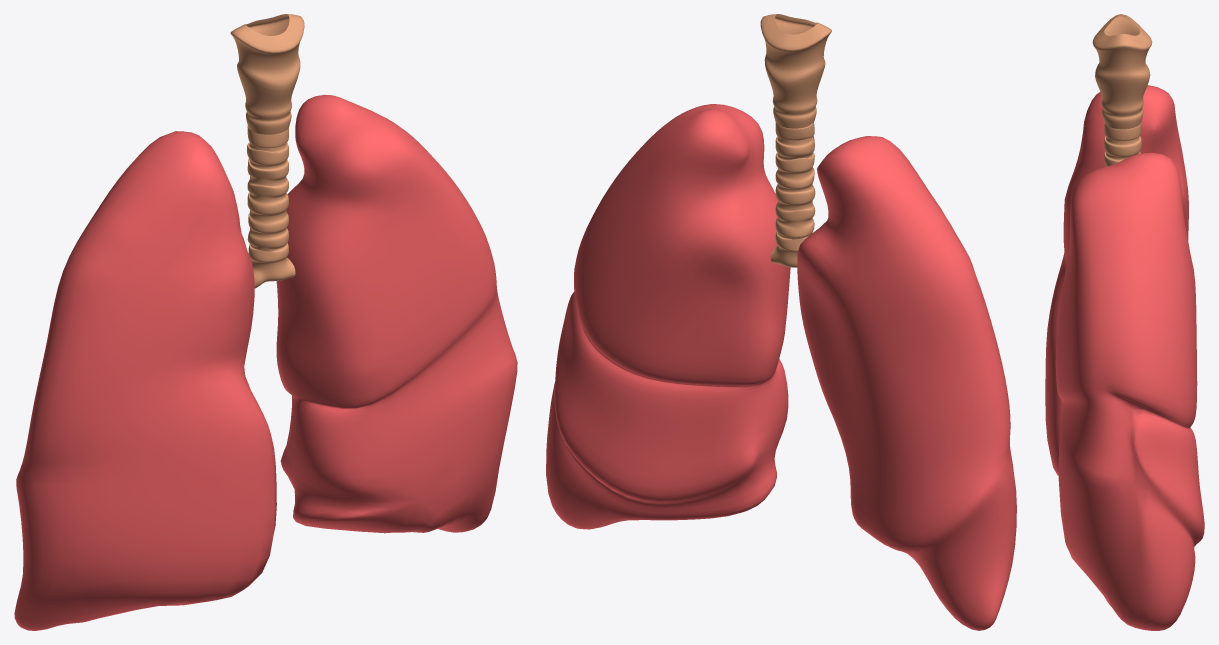
The model's file is latestlungs.glb.
The picture shows the model from 3 angles, left to right: view 1: azimuth 30°, elevation 25°; view 2: azimuth 150°, elevation 25°; view 3: azimuth 270°, elevation 25°; orthographic projection. The views are drawn at different scales.
Visible parts, largest first — view 1: Circle.001, Circle.002; view 2: Circle.001, Circle.002; view 3: Circle.001, Circle.002.
Boxes of the visible parts, left/top/right/bottom form: Circle.001: left=14, top=94, right=517, bottom=630; Circle.002: left=230, top=14, right=304, bottom=288; Circle.001: left=546, top=104, right=1016, bottom=630; Circle.002: left=760, top=14, right=831, bottom=267; Circle.001: left=1045, top=85, right=1204, bottom=630; Circle.002: left=1092, top=14, right=1152, bottom=166.
Bounding box in the file's own units: 3.67 × 4.23 × 1.18.
